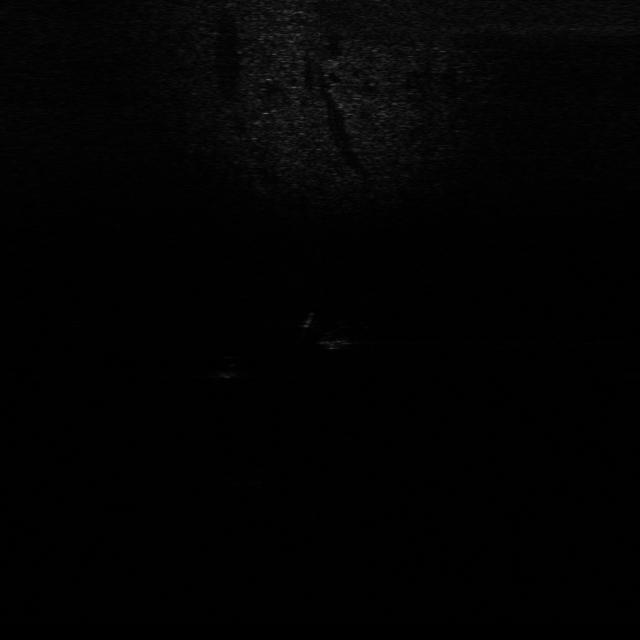ball: (213, 355, 247, 378)
human body: (296, 309, 360, 355)
